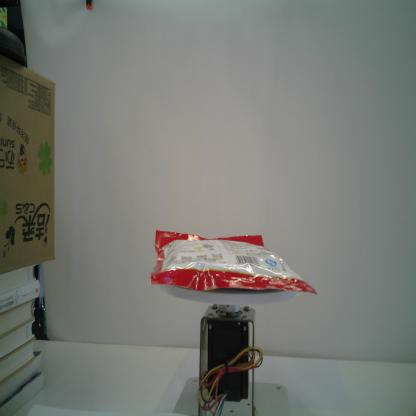Instant Drink: (149, 228, 320, 297)
